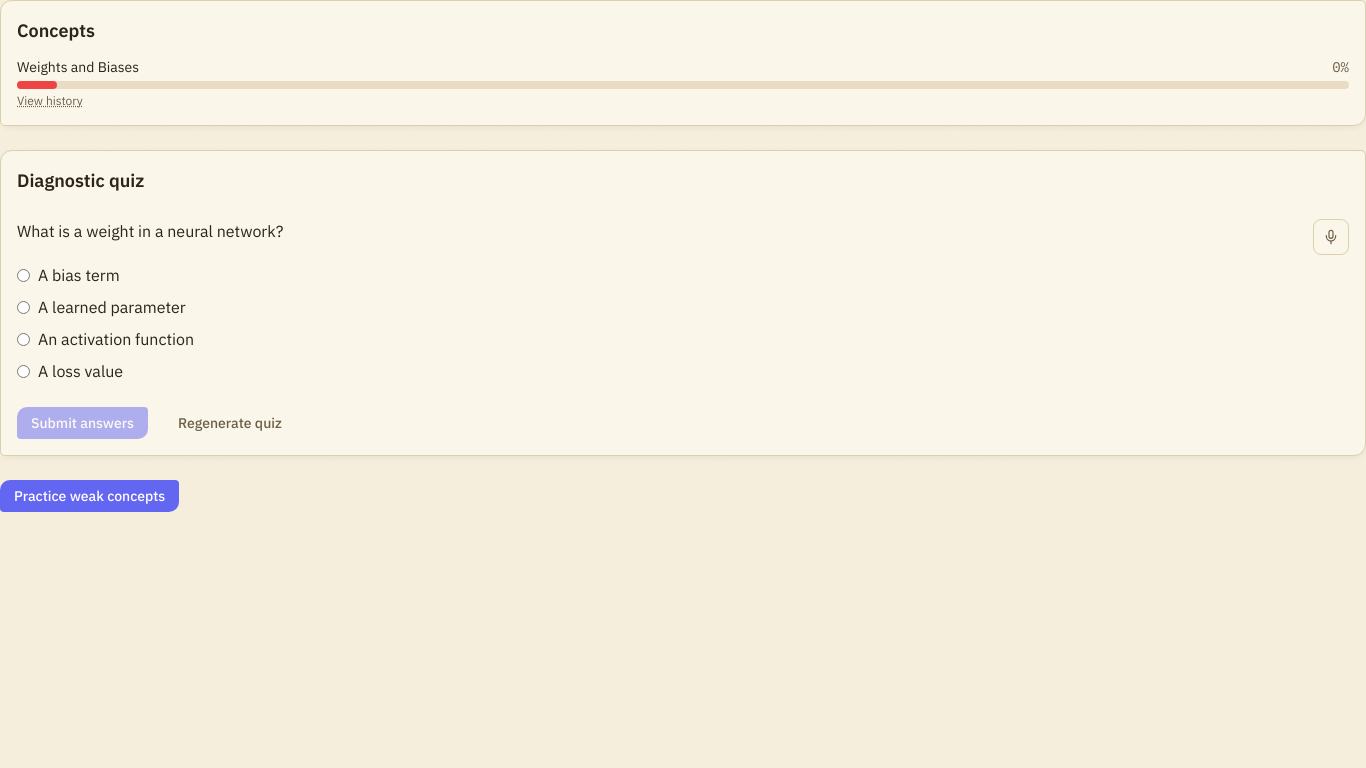
Test: QuizView quiz submission flow › shows correct/incorrect feedback after submission
What coordinates should you click on to do the following:
click the text "A learned parameter"
I would click on:
 (101, 307)
Its box is [17,297,186,317].
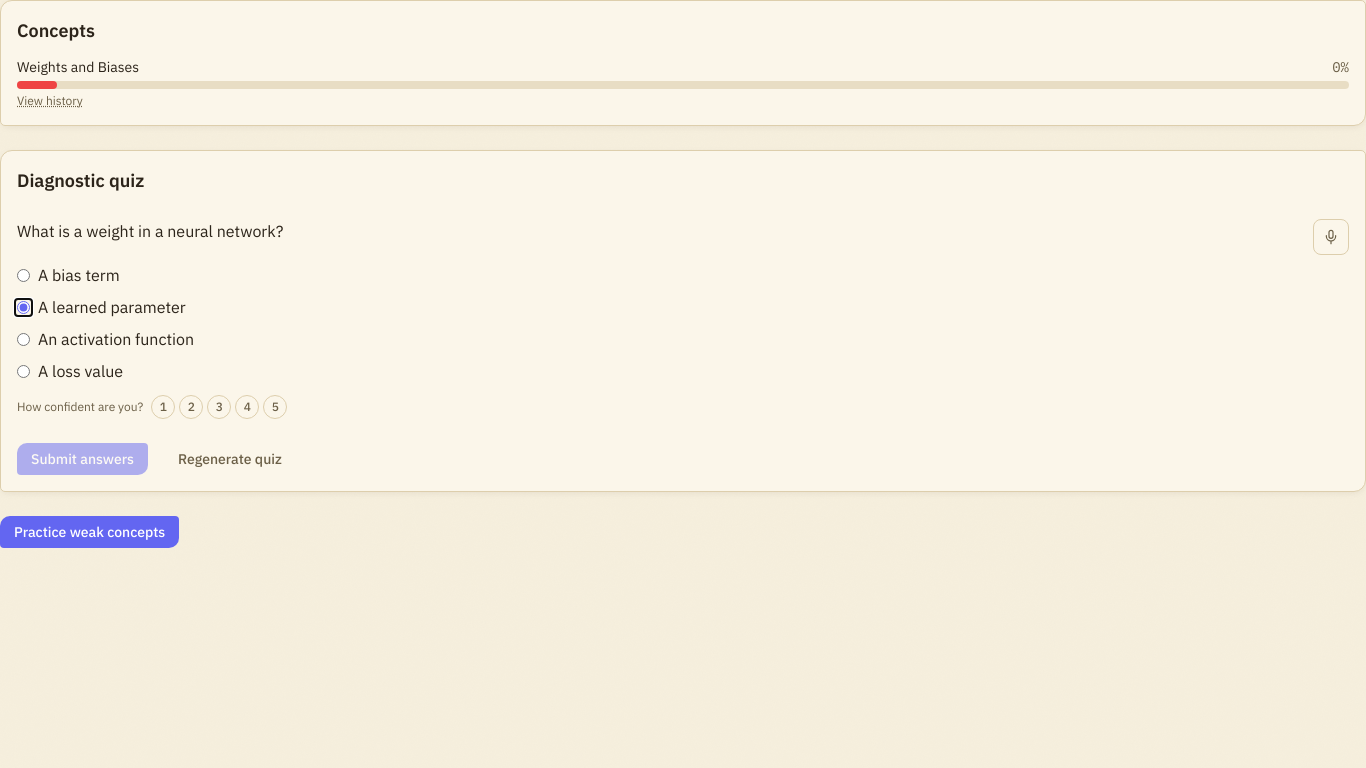
What coordinates should you click on to do the following:
click the button named "Confidence 4 out of 5"
I would click on:
 (247, 407)
Its box is [235,395,259,419].
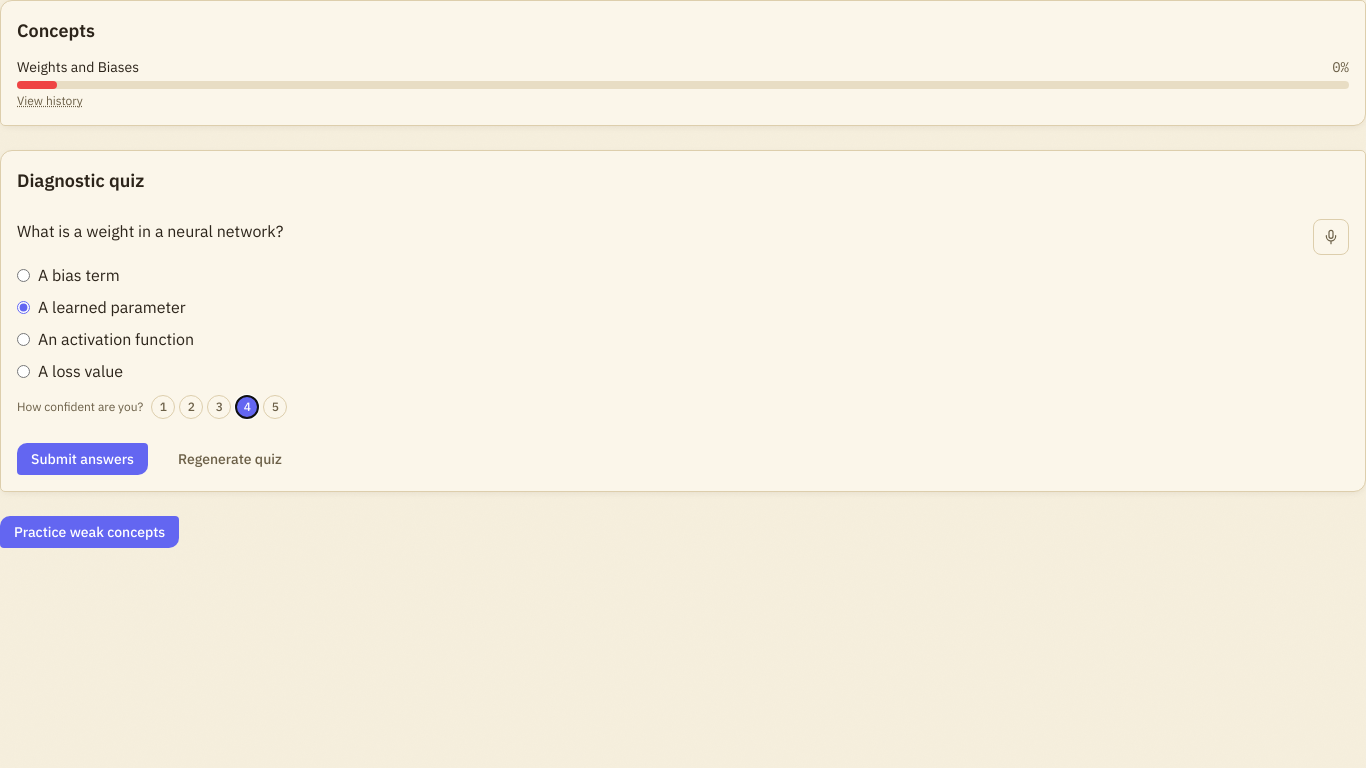
What coordinates should you click on to do the following:
click the button "Submit answers"
I would click on:
 (82, 459)
Its box is [17,443,148,475].
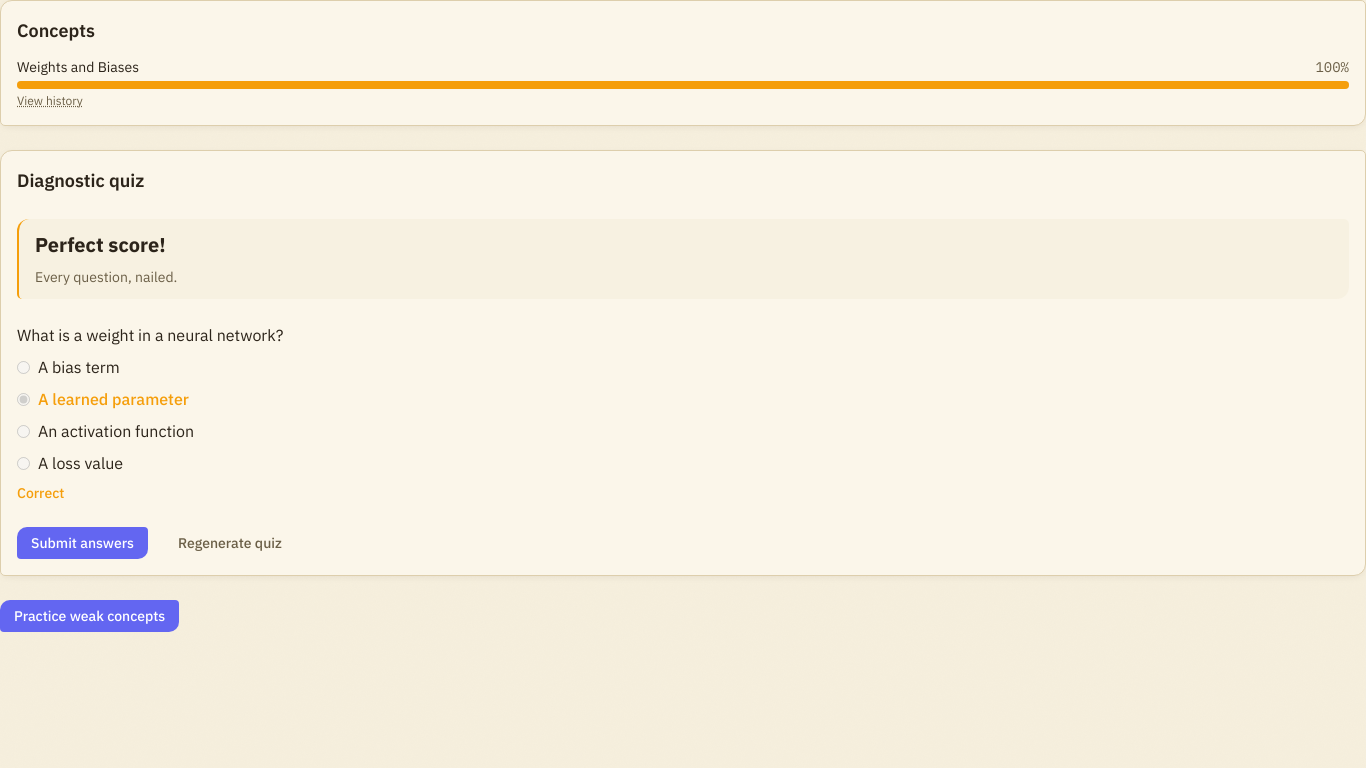
Expected: the text "Correct" is shown, [17,484,64,502]
